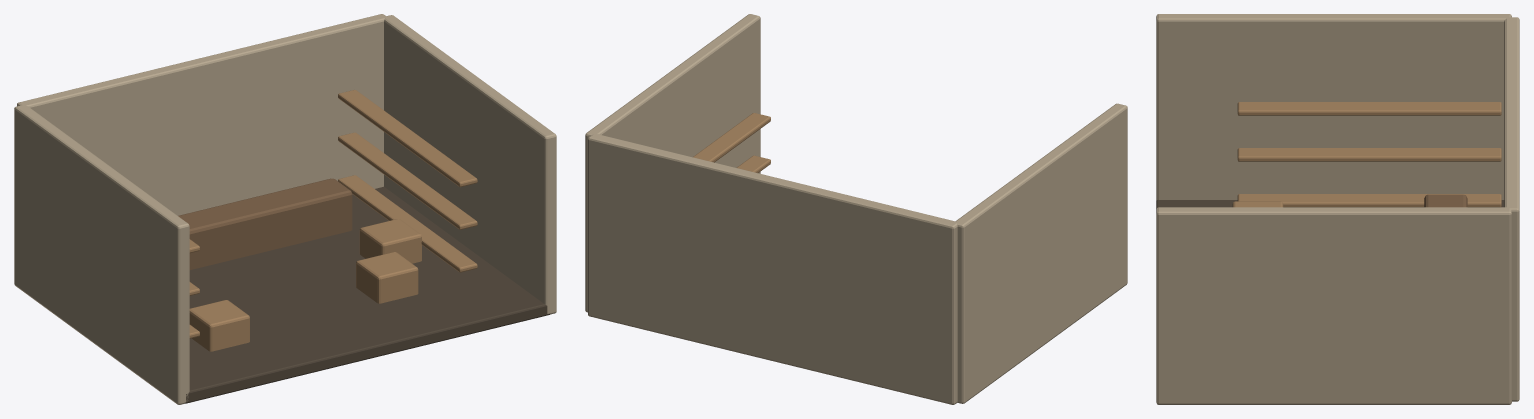
File: shop_interior.glb
The picture shows the model from 3 angles, left to right: view 1: azimuth 30°, elevation 25°; view 2: azimuth 150°, elevation 25°; view 3: azimuth 270°, elevation 25°; orthographic projection. The views are drawn at different scales.
Visible parts, largest first — view 1: InteriorBackWall, InteriorLeftWall, InteriorFloor, InteriorRightWall, ShopCounter, Shelf.004, Shelf.005, TradeCrate.001, Shelf.003, TradeCrate, TradeCrate.002; view 2: InteriorBackWall, InteriorLeftWall, InteriorRightWall, Shelf.005; view 3: InteriorRightWall, InteriorLeftWall, InteriorBackWall, Shelf.001, Shelf.002, Shelf, InteriorFloor, ShopCounter, TradeCrate.
Part boxes in pixels (left/top/right/bottom): InteriorBackWall: left=17, top=14, right=386, bottom=215; InteriorLeftWall: left=14, top=104, right=189, bottom=404; InteriorFloor: left=185, top=186, right=549, bottom=403; InteriorRightWall: left=384, top=15, right=556, bottom=314; ShopCounter: left=178, top=178, right=352, bottom=269; Shelf.004: left=338, top=132, right=477, bottom=229; Shelf.005: left=338, top=90, right=477, bottom=187; TradeCrate.001: left=356, top=252, right=418, bottom=303; Shelf.003: left=338, top=175, right=477, bottom=272; TradeCrate: left=189, top=300, right=249, bottom=351; TradeCrate.002: left=359, top=219, right=421, bottom=263; InteriorBackWall: left=588, top=133, right=957, bottom=404; InteriorLeftWall: left=955, top=103, right=1127, bottom=403; InteriorRightWall: left=585, top=14, right=760, bottom=312; Shelf.005: left=693, top=113, right=770, bottom=162; InteriorRightWall: left=1156, top=207, right=1511, bottom=404; InteriorLeftWall: left=1156, top=14, right=1511, bottom=200; InteriorBackWall: left=1504, top=17, right=1519, bottom=401; Shelf.001: left=1237, top=148, right=1501, bottom=161; Shelf.002: left=1237, top=102, right=1501, bottom=115; Shelf: left=1237, top=194, right=1501, bottom=207; InteriorFloor: left=1156, top=200, right=1504, bottom=208; ShopCounter: left=1424, top=194, right=1467, bottom=207; TradeCrate: left=1232, top=201, right=1283, bottom=207.
Bounding box in the file's own units: 9.3 × 4.2 × 7.15.
